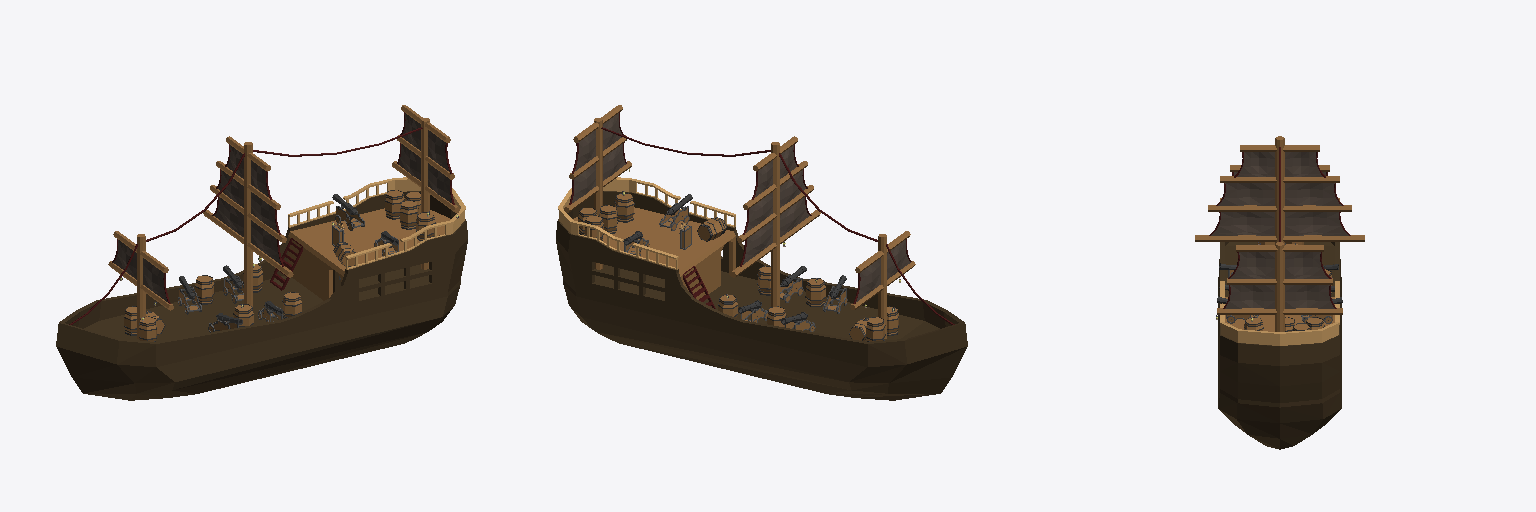
Rendered from Boat.obj.
The picture shows the model from 3 angles: view 1: azimuth 30°, elevation 25°; view 2: azimuth 150°, elevation 25°; view 3: azimuth 270°, elevation 25°; orthographic projection.
Parts seen in each view (by area): view 1: Mesh119 Group_1_1 Group1 Model, Mesh120 Group_3_1 Group1 Model, Mesh76 Group45 Group1 Model, Mesh123 Group_6_1 Group1 Model, Mesh122 Group_5_1 Group1 Model, Mesh121 Group_3_2 Group1 Model, Mesh111 Group60 Group_8_1 Group50 Group49 Group1 Model, Mesh112 Group61 Group_8_1 Group50 Group49 Group1 Model, Mesh113 Group62 Group_8_1 Group50 Group49 Group1 Model, Mesh28 Group_63_1 Group19 Group18 Group14 Group1 Model, Mesh31 Group_63_2 Group20 Group18 Group14 Group1 Model, Mesh92 Group_42_1 Group51 Group50 Group49 Group1 Model (+3 smaller); view 2: Mesh119 Group_1_1 Group1 Model, Mesh121 Group_3_2 Group1 Model, Mesh76 Group45 Group1 Model, Mesh123 Group_6_1 Group1 Model, Mesh122 Group_5_1 Group1 Model, Mesh120 Group_3_1 Group1 Model, Mesh111 Group60 Group_8_1 Group50 Group49 Group1 Model, Mesh112 Group61 Group_8_1 Group50 Group49 Group1 Model, Mesh113 Group62 Group_8_1 Group50 Group49 Group1 Model, Mesh31 Group_63_2 Group20 Group18 Group14 Group1 Model, Mesh28 Group_63_1 Group19 Group18 Group14 Group1 Model, Mesh92 Group_42_1 Group51 Group50 Group49 Group1 Model (+4 smaller); view 3: Mesh76 Group45 Group1 Model, Mesh119 Group_1_1 Group1 Model, Mesh28 Group_63_1 Group19 Group18 Group14 Group1 Model, Mesh31 Group_63_2 Group20 Group18 Group14 Group1 Model, Mesh132 Group67 Group_10_1 Group1 Model, Mesh27 Group_62_6 Group19 Group18 Group14 Group1 Model, Mesh30 Group_62_8 Group20 Group18 Group14 Group1 Model, Mesh25 Group_62_4 Group17 Group15 Group14 Group1 Model, Mesh23 Group_62_2 Group16 Group15 Group14 Group1 Model, Mesh92 Group_42_1 Group51 Group50 Group49 Group1 Model, Mesh24 Group_62_3 Group17 Group15 Group14 Group1 Model, Mesh22 Group_62_1 Group16 Group15 Group14 Group1 Model (+9 smaller).
Part boxes in pixels (left/top/right/bottom): Mesh119 Group_1_1 Group1 Model: left=57, top=286, right=459, bottom=400; Mesh120 Group_3_1 Group1 Model: left=154, top=235, right=446, bottom=362; Mesh76 Group45 Group1 Model: left=99, top=191, right=467, bottom=366; Mesh123 Group_6_1 Group1 Model: left=288, top=208, right=450, bottom=300; Mesh122 Group_5_1 Group1 Model: left=56, top=300, right=155, bottom=366; Mesh121 Group_3_2 Group1 Model: left=97, top=194, right=385, bottom=320; Mesh111 Group60 Group_8_1 Group50 Group49 Group1 Model: left=244, top=142, right=252, bottom=306; Mesh112 Group61 Group_8_1 Group50 Group49 Group1 Model: left=421, top=118, right=429, bottom=269; Mesh113 Group62 Group_8_1 Group50 Group49 Group1 Model: left=137, top=234, right=145, bottom=338; Mesh28 Group_63_1 Group19 Group18 Group14 Group1 Model: left=251, top=220, right=280, bottom=264; Mesh31 Group_63_2 Group20 Group18 Group14 Group1 Model: left=214, top=197, right=243, bottom=236; Mesh92 Group_42_1 Group51 Group50 Group49 Group1 Model: left=203, top=210, right=293, bottom=277; Mesh119 Group_1_1 Group1 Model: left=564, top=286, right=966, bottom=400; Mesh121 Group_3_2 Group1 Model: left=577, top=235, right=869, bottom=362; Mesh76 Group45 Group1 Model: left=556, top=191, right=924, bottom=366; Mesh123 Group_6_1 Group1 Model: left=573, top=207, right=735, bottom=299; Mesh122 Group_5_1 Group1 Model: left=868, top=300, right=967, bottom=366; Mesh120 Group_3_1 Group1 Model: left=635, top=193, right=926, bottom=320; Mesh111 Group60 Group_8_1 Group50 Group49 Group1 Model: left=771, top=142, right=779, bottom=306; Mesh112 Group61 Group_8_1 Group50 Group49 Group1 Model: left=594, top=118, right=602, bottom=269; Mesh113 Group62 Group_8_1 Group50 Group49 Group1 Model: left=878, top=234, right=886, bottom=338; Mesh31 Group_63_2 Group20 Group18 Group14 Group1 Model: left=743, top=220, right=772, bottom=264; Mesh28 Group_63_1 Group19 Group18 Group14 Group1 Model: left=780, top=197, right=809, bottom=236; Mesh92 Group_42_1 Group51 Group50 Group49 Group1 Model: left=730, top=210, right=820, bottom=277; Mesh76 Group45 Group1 Model: left=1220, top=246, right=1339, bottom=407; Mesh119 Group_1_1 Group1 Model: left=1218, top=259, right=1341, bottom=449; Mesh28 Group_63_1 Group19 Group18 Group14 Group1 Model: left=1211, top=212, right=1274, bottom=235; Mesh31 Group_63_2 Group20 Group18 Group14 Group1 Model: left=1285, top=212, right=1348, bottom=235; Mesh132 Group67 Group_10_1 Group1 Model: left=1221, top=325, right=1338, bottom=345; Mesh27 Group_62_6 Group19 Group18 Group14 Group1 Model: left=1218, top=183, right=1274, bottom=205; Mesh30 Group_62_8 Group20 Group18 Group14 Group1 Model: left=1285, top=183, right=1341, bottom=205; Mesh25 Group_62_4 Group17 Group15 Group14 Group1 Model: left=1225, top=285, right=1274, bottom=308; Mesh23 Group_62_2 Group16 Group15 Group14 Group1 Model: left=1285, top=285, right=1334, bottom=308; Mesh92 Group_42_1 Group51 Group50 Group49 Group1 Model: left=1195, top=235, right=1364, bottom=241; Mesh24 Group_62_3 Group17 Group15 Group14 Group1 Model: left=1230, top=252, right=1274, bottom=278; Mesh22 Group_62_1 Group16 Group15 Group14 Group1 Model: left=1285, top=252, right=1328, bottom=278.
Bounding box in the file's own units: 802 × 437 × 295.